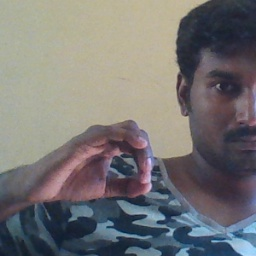O: (26, 111, 157, 206)
